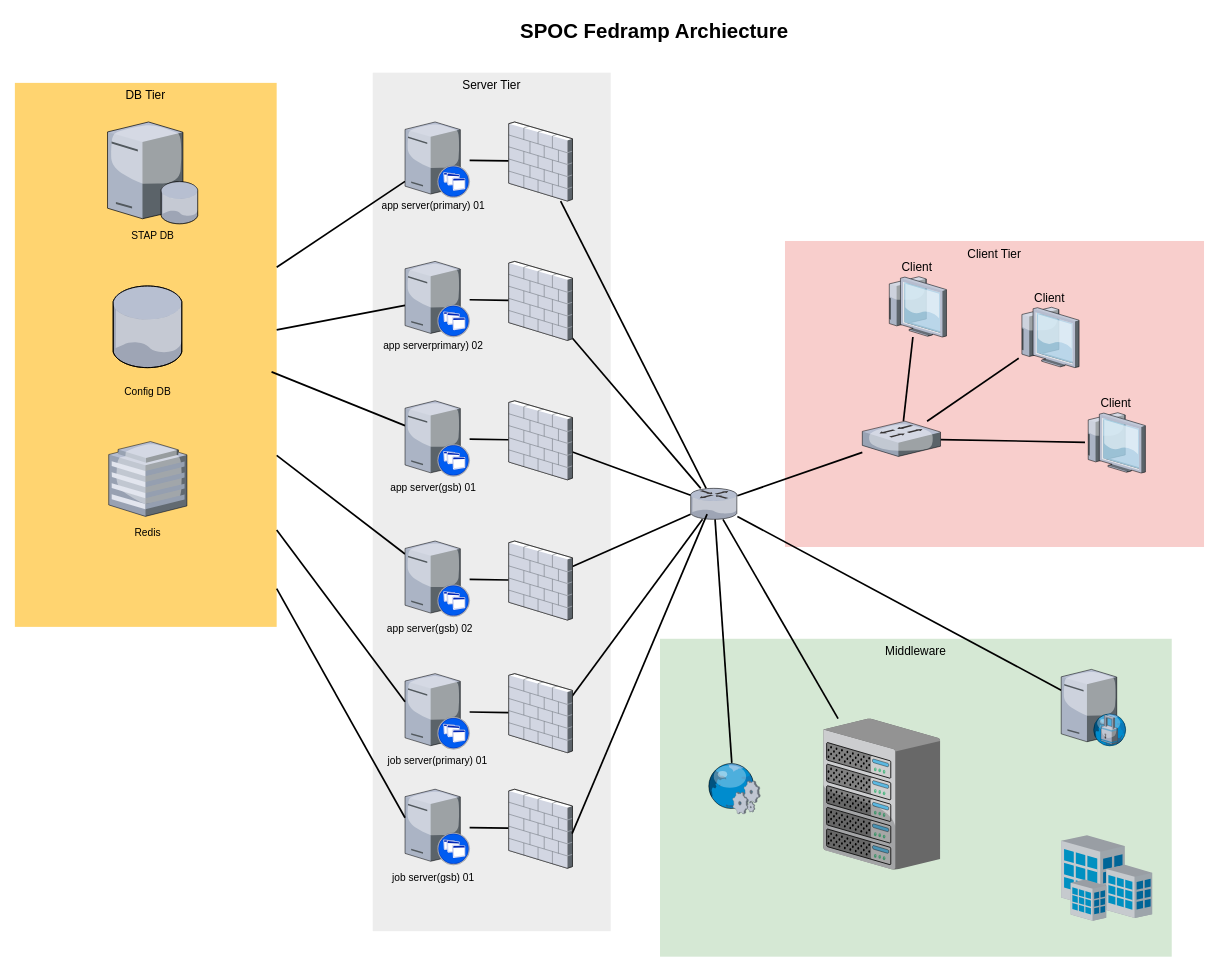
Some shapes in this 1218 by 971 pixel diagram are drawn without their labels. Each missing label, with the centre of its shape:
"DNS" goes at (x=881, y=793).
"LoadBalancer Server" goes at (x=1093, y=707).
"Web Proxy" goes at (x=733, y=787).
